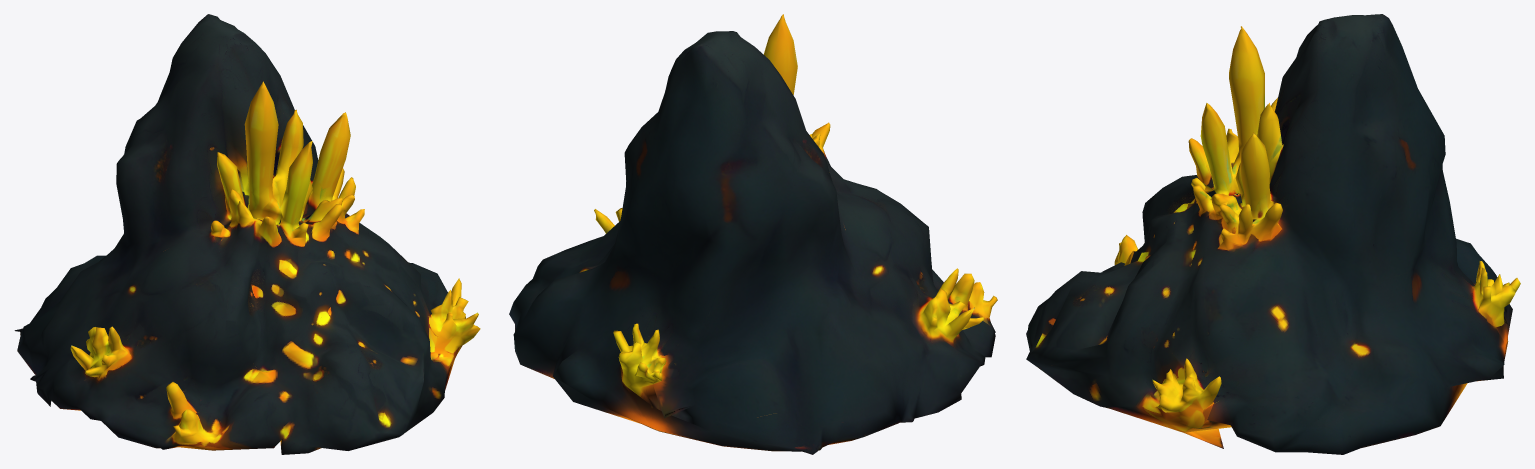
Rendered from z1_sulfur.glb.
3 renders of one model, left to right at view 1: azimuth 30°, elevation 25°; view 2: azimuth 150°, elevation 25°; view 3: azimuth 270°, elevation 25°, orthographic. The views are drawn at different scales.
Size of the model in its own units: 1.87 by 1.39 by 1.85.
1 material, 1 textured.
